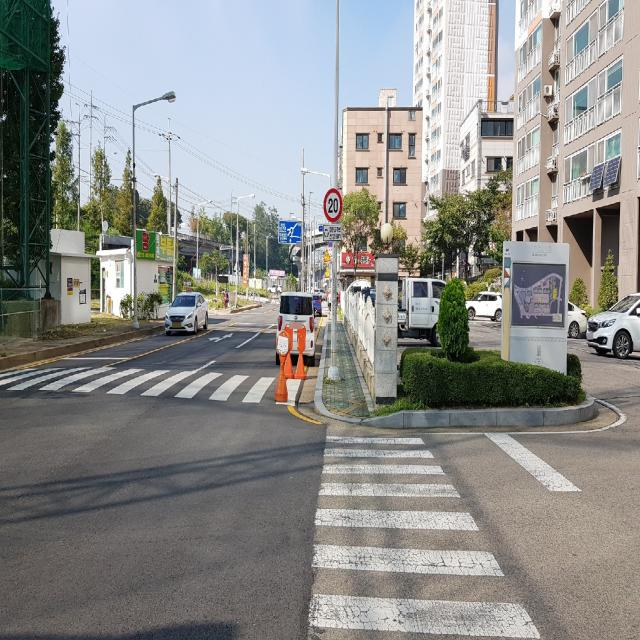횡단보도: (305, 433, 542, 638), (0, 345, 275, 410)
